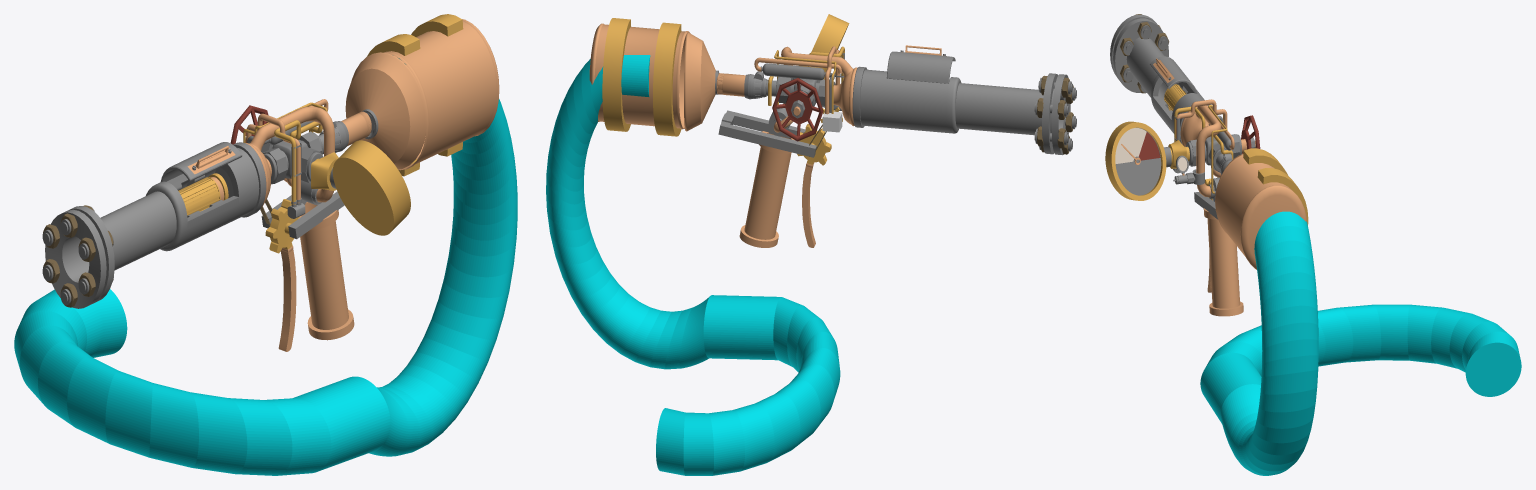
File: pipegun.fbx
The picture shows the model from 3 angles, left to right: view 1: azimuth 30°, elevation 25°; view 2: azimuth 150°, elevation 25°; view 3: azimuth 270°, elevation 25°; orthographic projection. The views are drawn at different scales.
Visible parts, largest first — view 1: Cylinder, Circle, Tank, TankCap, BigGauge, Cylinder.006, Gear.004, Cross Joint.003, Nut, Bullet, Cube.002, Circle.002 (+8 smaller); view 2: Cylinder, Circle, Tank, Cylinder.006, TankCap, Sphere.003, Sphere.004, Cube.002, Circle.002, Cylinder.005, Gear.004, BigGauge (+5 smaller); view 3: Cylinder, Circle, Tank, BigGauge, Cylinder.006, Cross Joint.003, Sphere.004, Circle.002, Sphere.003, Cylinder.001, Cylinder.005.
Part boxes in pixels (x1,y1,x2,y2): Cylinder: (14,58,517,475); Circle: (45,106,334,308); Tank: (384,19,499,170); TankCap: (345,52,426,169); BigGauge: (332,140,410,235); Cylinder.006: (298,202,354,340); Gear.004: (265,199,299,351); Cross Joint.003: (261,131,323,184); Nut: (42,213,95,307); Bullet: (178,173,228,215); Cube.002: (261,191,344,239); Circle.002: (160,142,242,181); Cylinder: (546,55,840,475); Circle: (781,46,1070,155); Tank: (589,23,690,129); Cylinder.006: (739,131,794,247); TankCap: (684,32,718,131); Sphere.003: (653,22,681,136); Sphere.004: (602,18,630,131); Cube.002: (718,110,816,157); Circle.002: (886,51,955,83); Cylinder.005: (772,78,823,141); Gear.004: (796,124,831,247); BigGauge: (811,14,849,53); Cylinder: (1200,211,1521,475); Circle: (1110,14,1221,197); Tank: (1215,154,1306,269); BigGauge: (1105,121,1166,200); Cylinder.006: (1203,208,1243,316); Cross Joint.003: (1186,134,1241,172); Sphere.004: (1257,168,1308,225); Circle.002: (1150,56,1197,93); Sphere.003: (1243,148,1287,174); Cylinder.001: (1123,25,1168,92); Cylinder.005: (1241,115,1260,153).
Size of the model in its own units: 1627 by 1171 by 1393.
